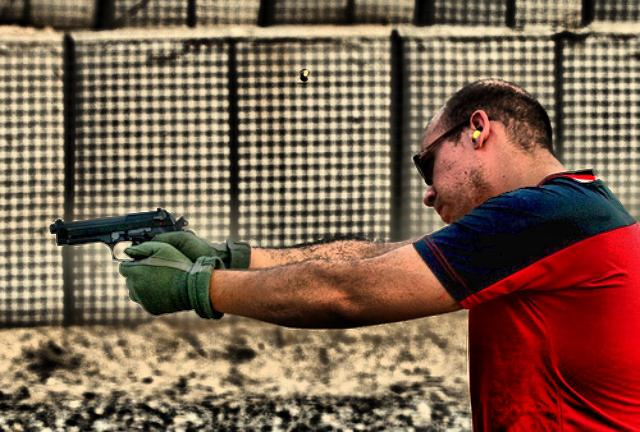pistol: (49, 197, 189, 263)
